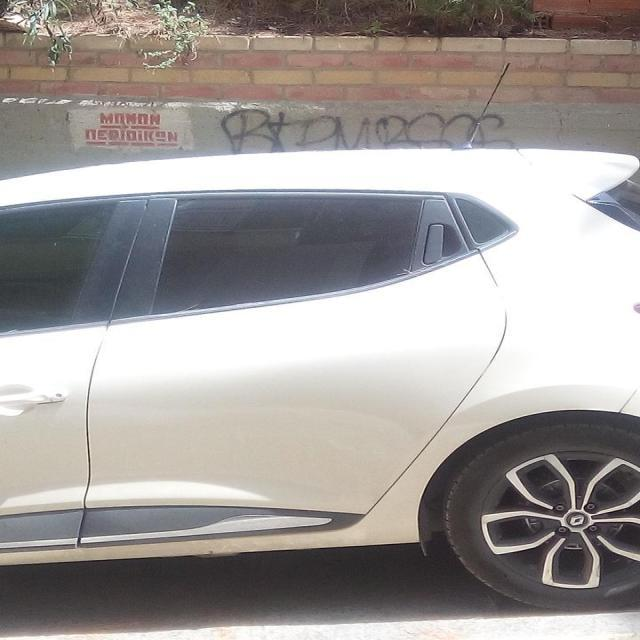nonspitting: (217, 106, 512, 152)
